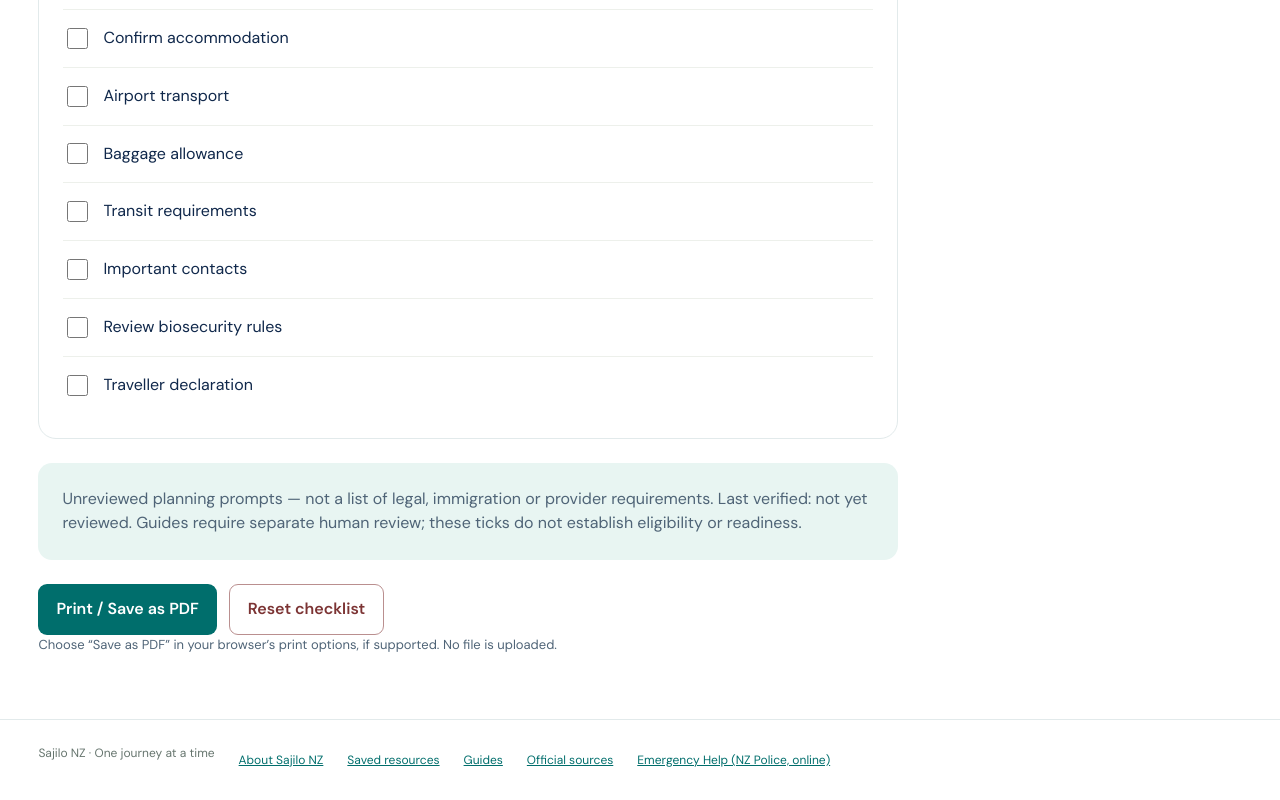
failed reset keeps checked tasks and shows no reset success message
(page scrolled)
Click the button "Reset checklist".
click(306, 610)  # box x1=229 y1=584 x2=384 y2=635
(page scrolled)
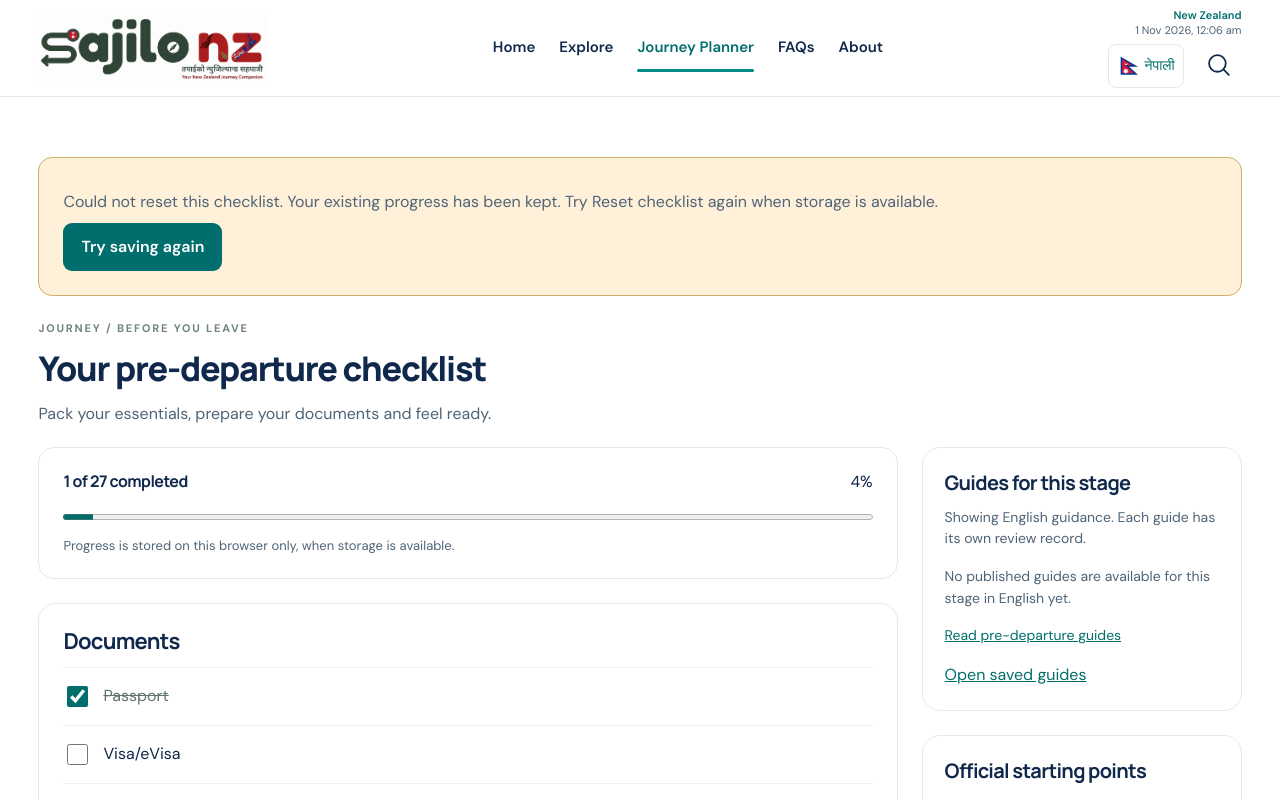
Check: the checkbox labelled "Passport" is checked, box x1=67 y1=686 x2=88 y2=707
Check: the message shows "Could not reset", box x1=63 y1=191 x2=938 y2=212
